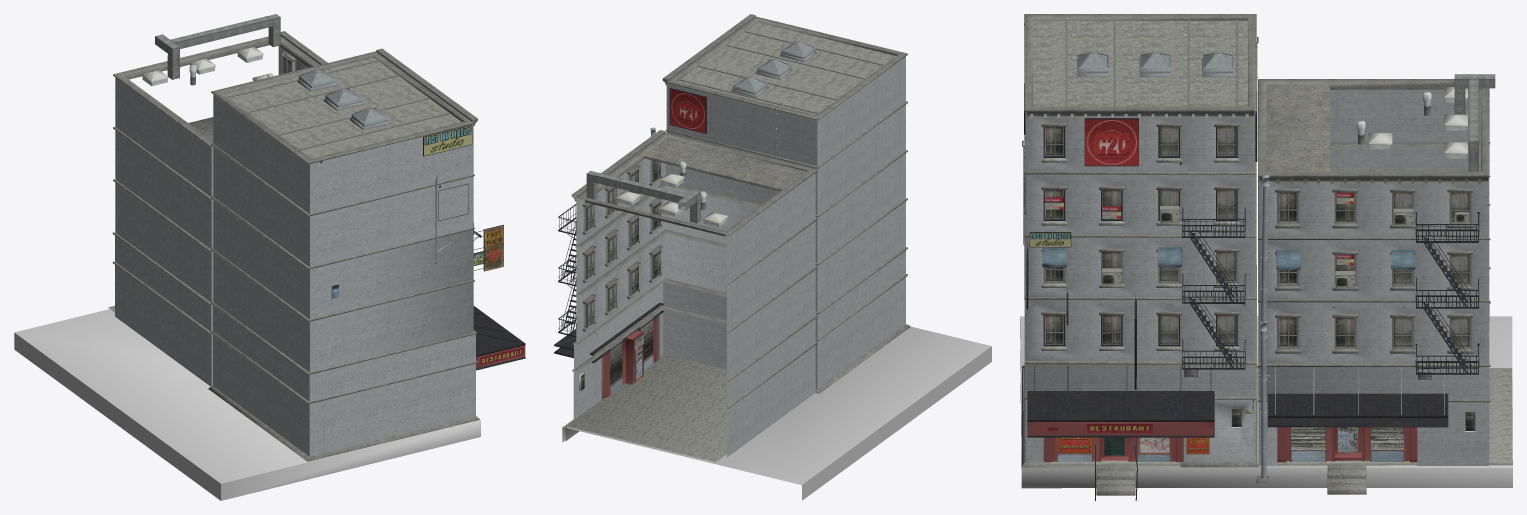
Rendered from u2NWBuild5.gltf.
The picture shows the model from 3 angles, left to right: view 1: azimuth 30°, elevation 25°; view 2: azimuth 150°, elevation 25°; view 3: azimuth 270°, elevation 25°; orthographic projection. The views are drawn at different scales.
Parts seen in each view (by area): view 1: u2NWBuild5; view 2: u2NWBuild5; view 3: u2NWBuild5.
Boxes of the visible parts, x1,y1,x2,y2 form: u2NWBuild5: (14, 14, 525, 500); u2NWBuild5: (554, 14, 991, 500); u2NWBuild5: (1020, 14, 1512, 500).
Size of the model in its own units: 9.03 by 9.19 by 10.52.
